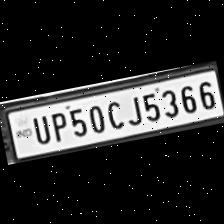0: (84, 100, 107, 134)
3: (156, 83, 180, 119)
5: (63, 103, 89, 139), (137, 86, 162, 122)
6: (194, 76, 218, 112), (174, 80, 198, 115)
C: (100, 95, 125, 131)
J: (120, 91, 144, 127)
P: (45, 106, 69, 142)
U: (26, 111, 52, 146)
